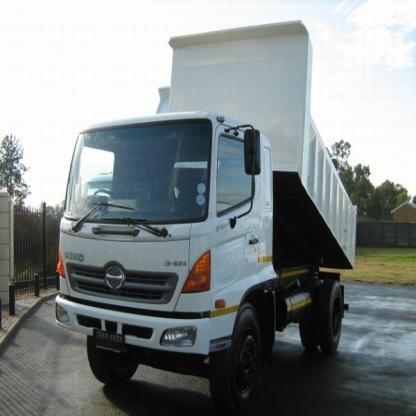dump_truck: (51, 15, 358, 415)
